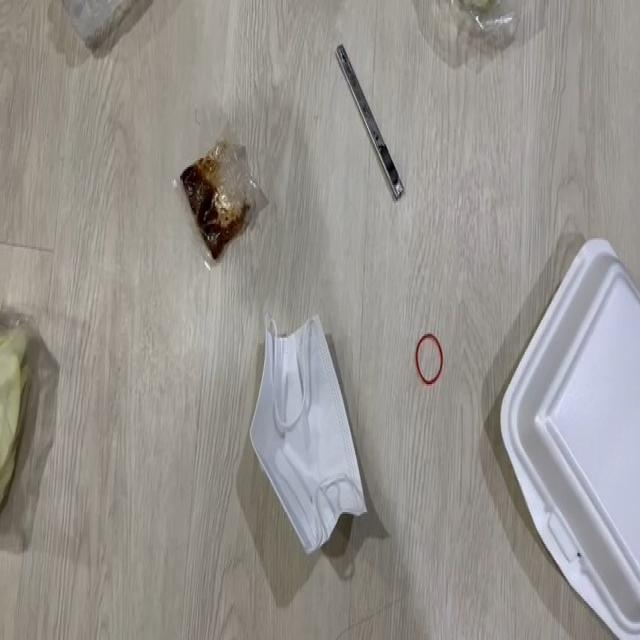Anorganik: (493, 218, 640, 630), (311, 39, 410, 203), (50, 0, 152, 69), (408, 329, 448, 389)
B3: (246, 308, 372, 566), (166, 111, 267, 275), (0, 314, 39, 492)
